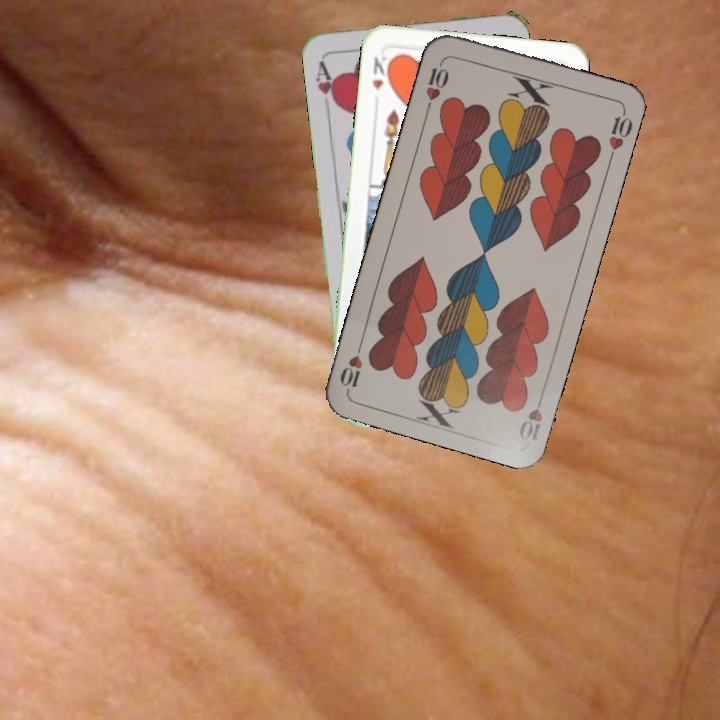H10: (513, 387, 548, 443), (421, 55, 452, 113)
HA: (311, 56, 341, 110)
HK: (368, 52, 394, 93)
